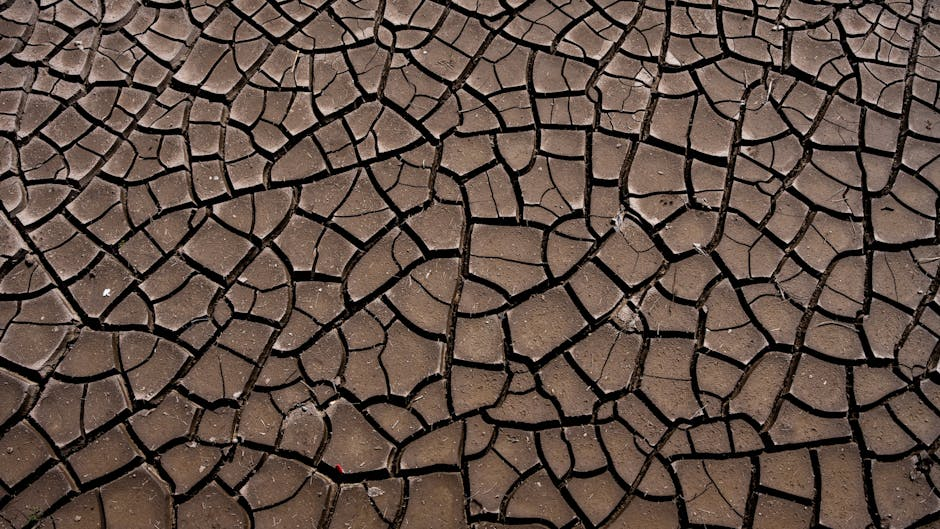细微裂纹: (361, 174, 917, 529)
